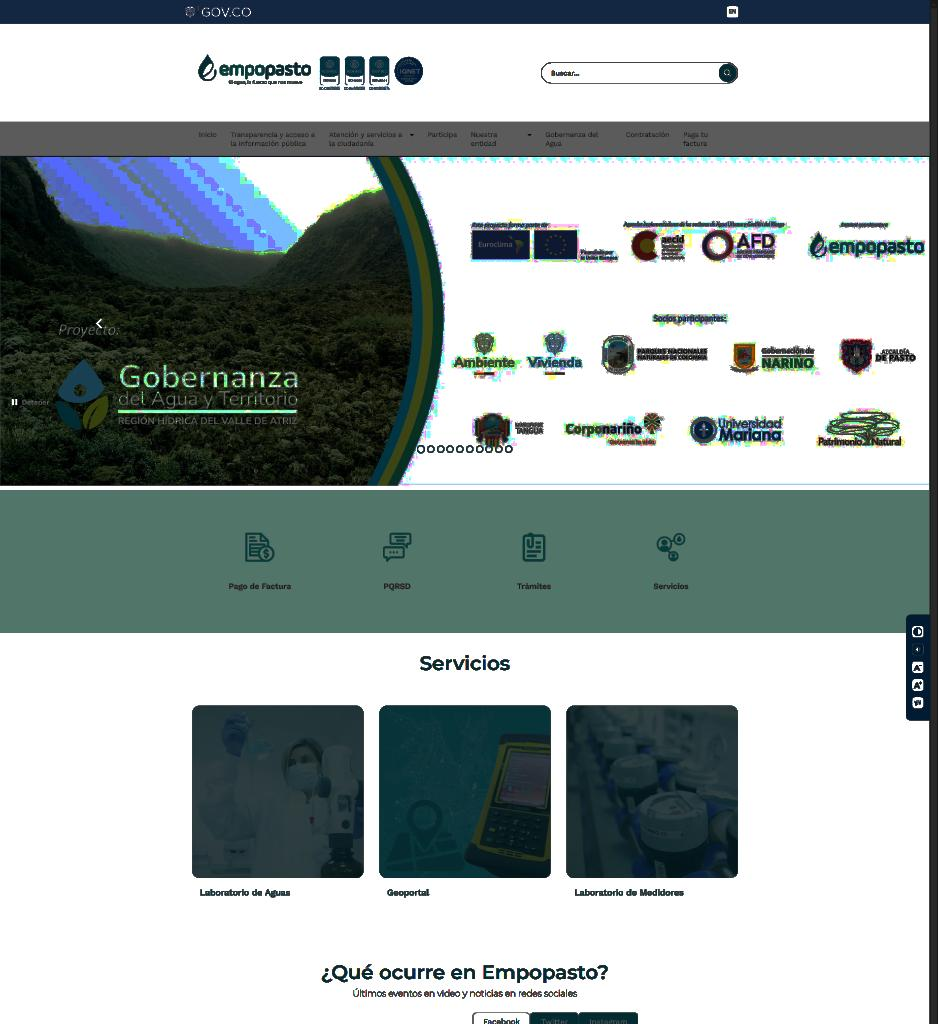banner principal: (0, 154, 930, 488)
barra accesibilidad: (906, 614, 932, 720)
barra govco: (182, 2, 740, 22)
btn atencion ciudadano: (327, 130, 415, 148)
btn buscador: (540, 61, 738, 85)
btn entidad: (469, 129, 533, 147)
btn idiomas: (728, 6, 738, 18)
btn inicio: (196, 130, 218, 140)
btn participa: (427, 128, 460, 140)
btn transpariencia: (227, 128, 316, 148)
logogovco: (184, 4, 252, 20)
menu principal: (197, 128, 711, 152)
